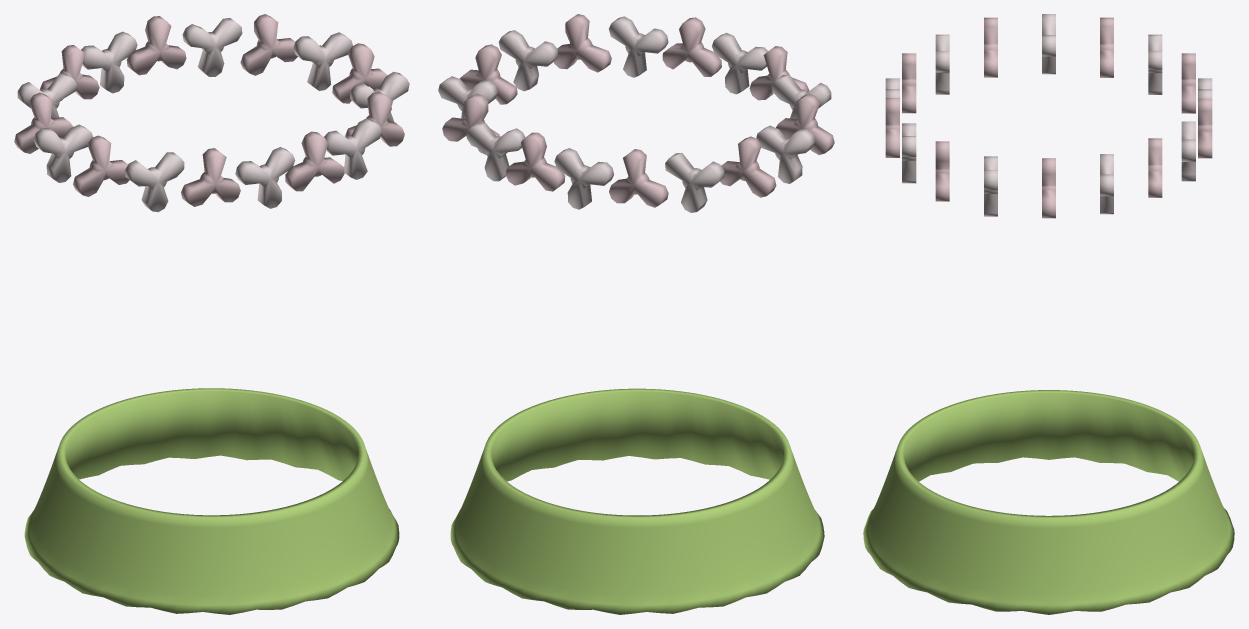
File: island_chiikawa.glb
3 views of the same model, side by side, from view 1: azimuth 30°, elevation 25°; view 2: azimuth 150°, elevation 25°; view 3: azimuth 270°, elevation 25° (orthographic).
Visible parts, largest first — view 1: island_chiikawa; view 2: island_chiikawa; view 3: island_chiikawa.
Part boxes in pixels (x1,y1,x2,y2): island_chiikawa: [14, 14, 409, 614]; island_chiikawa: [438, 14, 834, 614]; island_chiikawa: [863, 14, 1234, 614].
Bounding box in the file's own units: 0.6642 × 0.8207 × 0.6143.
